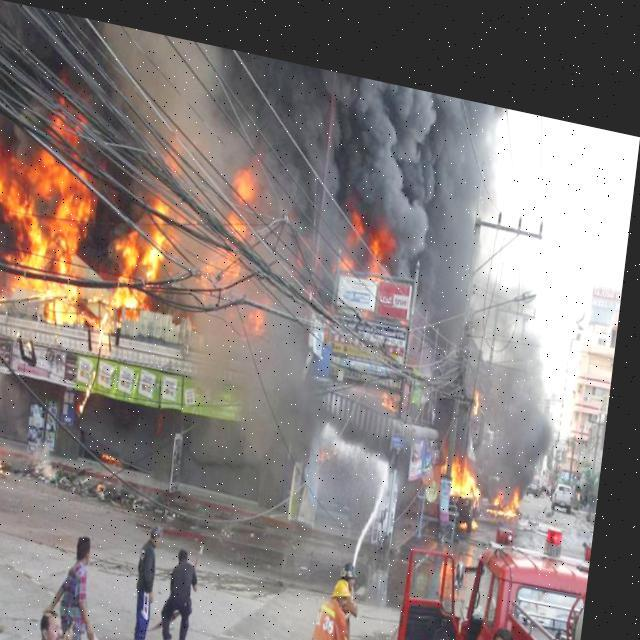Fire: (0, 98, 299, 374), (328, 182, 409, 287), (443, 420, 540, 504)
